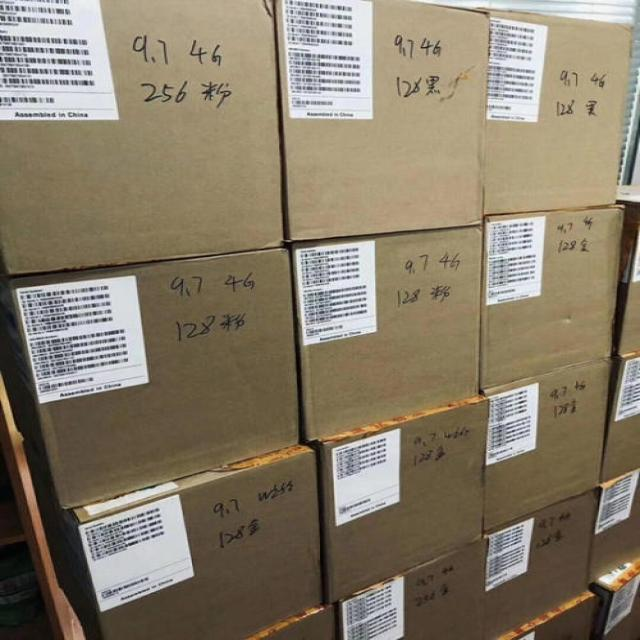box: (0, 0, 289, 275), (2, 250, 299, 508), (273, 2, 489, 242), (59, 444, 325, 638), (292, 226, 482, 439), (311, 399, 484, 604), (485, 7, 634, 214), (482, 207, 623, 388), (484, 360, 611, 537), (484, 490, 597, 637), (336, 540, 484, 639), (599, 352, 639, 487), (593, 474, 639, 582), (611, 203, 639, 360), (592, 557, 639, 637)
